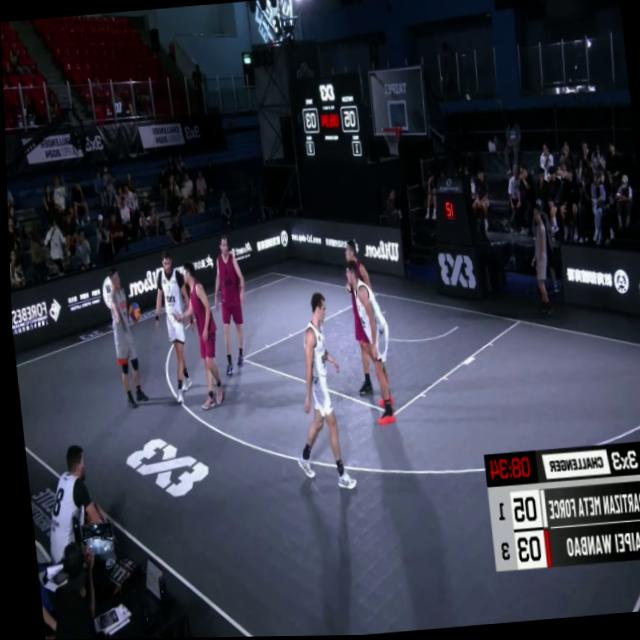ball: (124, 299, 140, 329)
hoop: (378, 124, 401, 161)
player: (279, 290, 350, 500), (339, 243, 394, 423), (342, 267, 398, 431), (166, 259, 220, 415), (145, 245, 197, 405), (209, 234, 254, 383)
